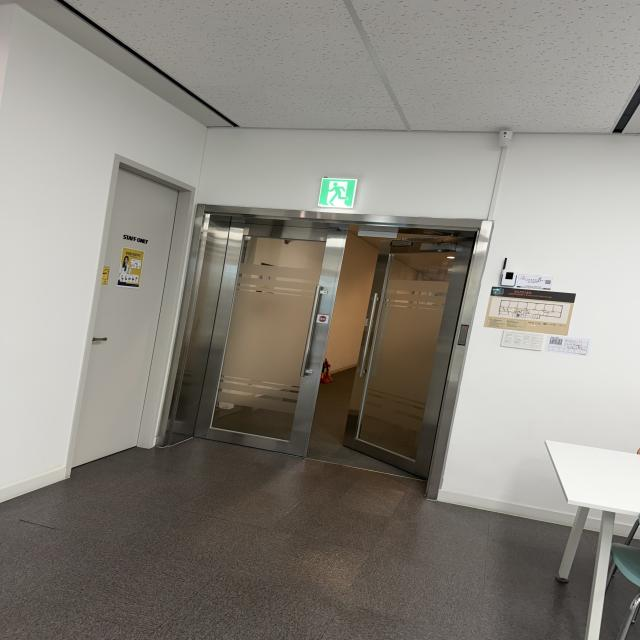rear_door: (186, 213, 481, 484)
